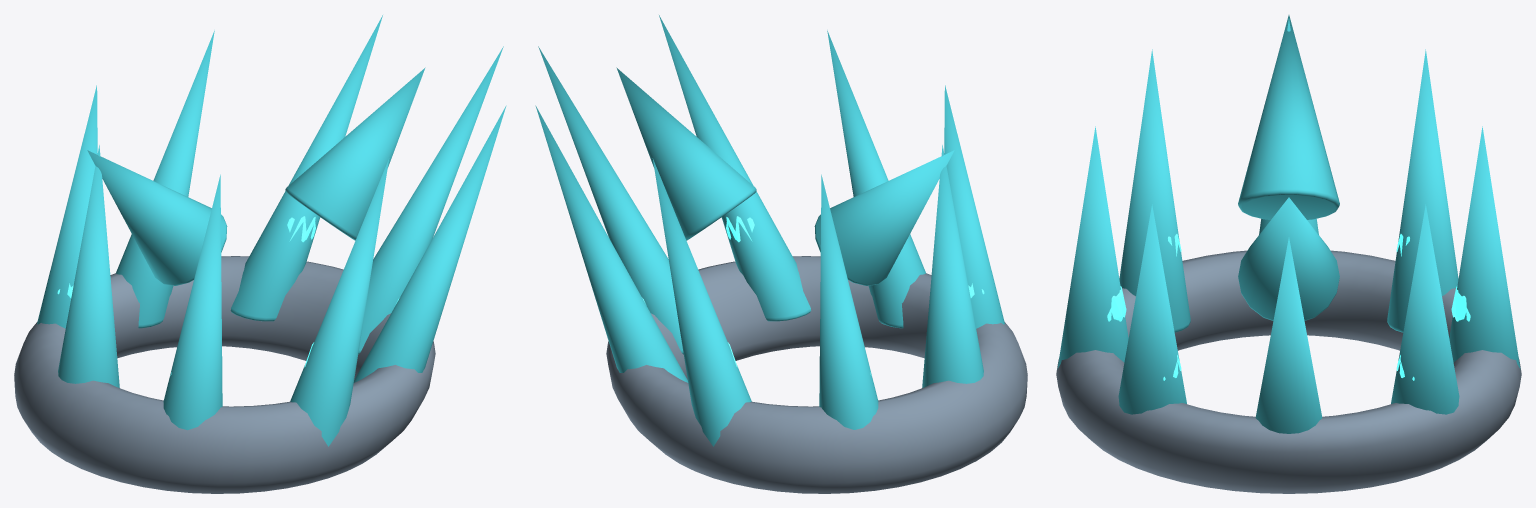
Rendered from crown_v4.glb.
3 renders of one model, left to right at view 1: azimuth 30°, elevation 25°; view 2: azimuth 150°, elevation 25°; view 3: azimuth 270°, elevation 25°, orthographic. The views are drawn at different scales.
Parts seen in each view (by area): view 1: CROWN_BAND_PRIMARY, CROWN_POINT_ACCENT.006, CROWN_POINT_ACCENT.007, CROWN_POINT_ACCENT.001, SWEPT_FIN_ACCENT.001, CROWN_POINT_ACCENT, CROWN_POINT_ACCENT.005, SWEPT_FIN_ACCENT, CROWN_POINT_ACCENT.004, CROWN_POINT_ACCENT.002, CROWN_POINT_ACCENT.003; view 2: CROWN_BAND_PRIMARY, CROWN_POINT_ACCENT.002, CROWN_POINT_ACCENT.001, CROWN_POINT_ACCENT.007, SWEPT_FIN_ACCENT.001, CROWN_POINT_ACCENT, CROWN_POINT_ACCENT.003, SWEPT_FIN_ACCENT, CROWN_POINT_ACCENT.004, CROWN_POINT_ACCENT.006, CROWN_POINT_ACCENT.005; view 3: CROWN_BAND_PRIMARY, SWEPT_FIN_ACCENT, CROWN_POINT_ACCENT.002, CROWN_POINT_ACCENT.006, CROWN_POINT_ACCENT.003, CROWN_POINT_ACCENT.005, CROWN_POINT_ACCENT.001, CROWN_POINT_ACCENT.007, SWEPT_FIN_ACCENT.001, CROWN_POINT_ACCENT.
Part boxes in pixels (x1,y1,x2,y2): CROWN_BAND_PRIMARY: (14, 256, 435, 493); CROWN_POINT_ACCENT.006: (290, 158, 389, 446); CROWN_POINT_ACCENT.007: (353, 105, 506, 382); CROWN_POINT_ACCENT.001: (230, 15, 382, 321); SWEPT_FIN_ACCENT.001: (285, 67, 425, 240); CROWN_POINT_ACCENT: (358, 46, 503, 354); CROWN_POINT_ACCENT.005: (163, 174, 222, 430); SWEPT_FIN_ACCENT: (87, 150, 227, 285); CROWN_POINT_ACCENT.004: (58, 145, 119, 387); CROWN_POINT_ACCENT.002: (116, 30, 214, 328); CROWN_POINT_ACCENT.003: (37, 85, 97, 328); CROWN_BAND_PRIMARY: (606, 256, 1027, 493); CROWN_POINT_ACCENT.002: (652, 158, 751, 446); CROWN_POINT_ACCENT.001: (535, 105, 688, 382); CROWN_POINT_ACCENT.007: (659, 15, 811, 321); SWEPT_FIN_ACCENT.001: (616, 67, 756, 240); CROWN_POINT_ACCENT: (538, 46, 683, 354); CROWN_POINT_ACCENT.003: (819, 174, 878, 429); SWEPT_FIN_ACCENT: (814, 150, 954, 285); CROWN_POINT_ACCENT.004: (922, 145, 983, 387); CROWN_POINT_ACCENT.006: (827, 30, 925, 328); CROWN_POINT_ACCENT.005: (944, 85, 1004, 328); CROWN_BAND_PRIMARY: (1056, 250, 1521, 493); SWEPT_FIN_ACCENT: (1238, 15, 1339, 219); CROWN_POINT_ACCENT.002: (1449, 126, 1520, 369); CROWN_POINT_ACCENT.006: (1057, 126, 1128, 369); CROWN_POINT_ACCENT.003: (1387, 49, 1458, 332); CROWN_POINT_ACCENT.005: (1119, 49, 1190, 332); CROWN_POINT_ACCENT.001: (1391, 204, 1459, 414); CROWN_POINT_ACCENT.007: (1118, 204, 1186, 414); SWEPT_FIN_ACCENT.001: (1238, 197, 1339, 320); CROWN_POINT_ACCENT: (1255, 237, 1322, 433).
Size of the model in its own units: 1.81 by 1.14 by 1.43.
